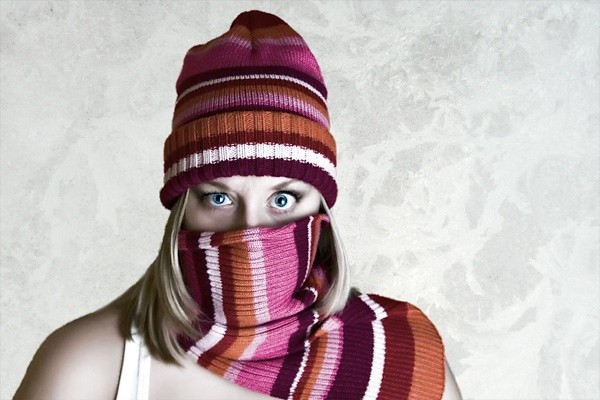face_with_mask: (170, 100, 323, 306)
